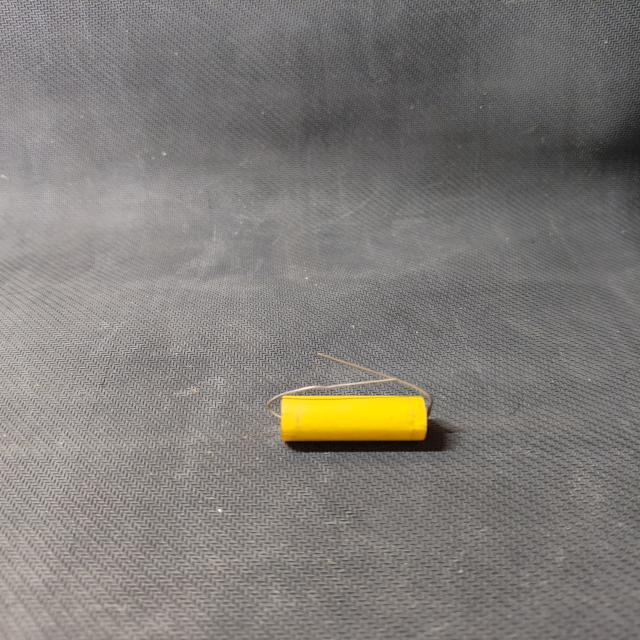capacitor: (258, 341, 450, 452)
